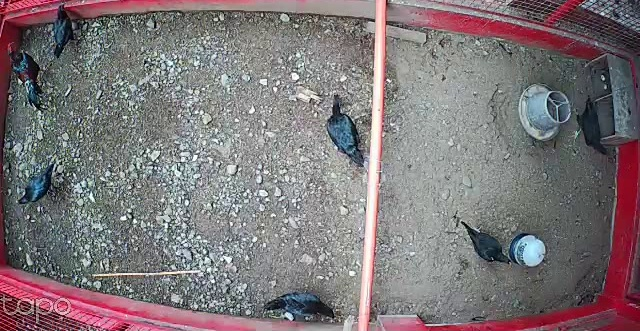Chicken: (323, 91, 370, 170), (563, 93, 611, 159), (459, 217, 515, 268), (49, 2, 82, 60), (14, 160, 56, 205)
Feeder: (519, 82, 570, 143)
Rooster: (3, 40, 52, 113)
